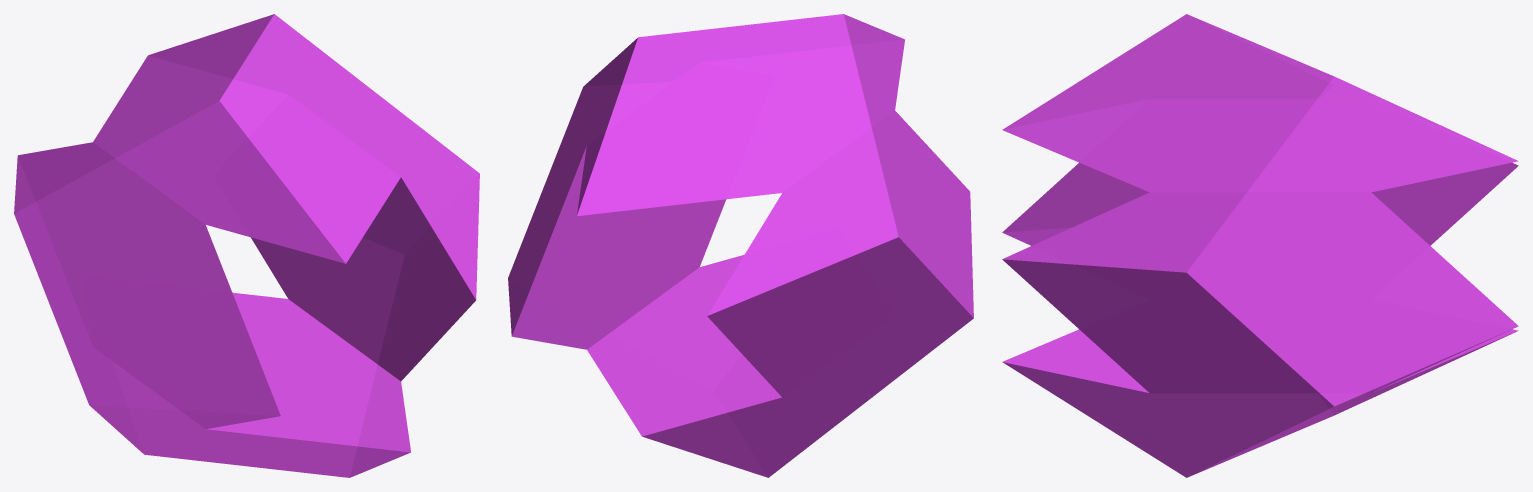
Rendered from HexagonalToroid_Q.obj.
3 views of the same model, side by side, from view 1: azimuth 30°, elevation 25°; view 2: azimuth 150°, elevation 25°; view 3: azimuth 270°, elevation 25° (orthographic).
Bounding box in the file's own units: 12 × 12 × 14.
